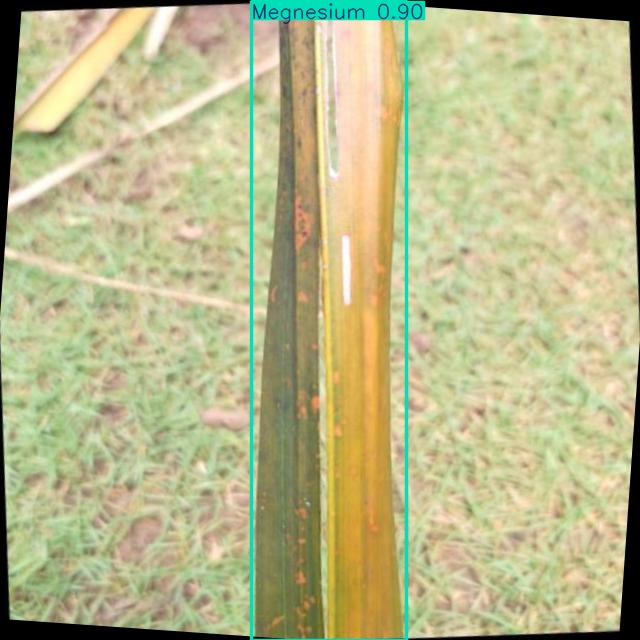Megnesium: (251, 1, 406, 640)
